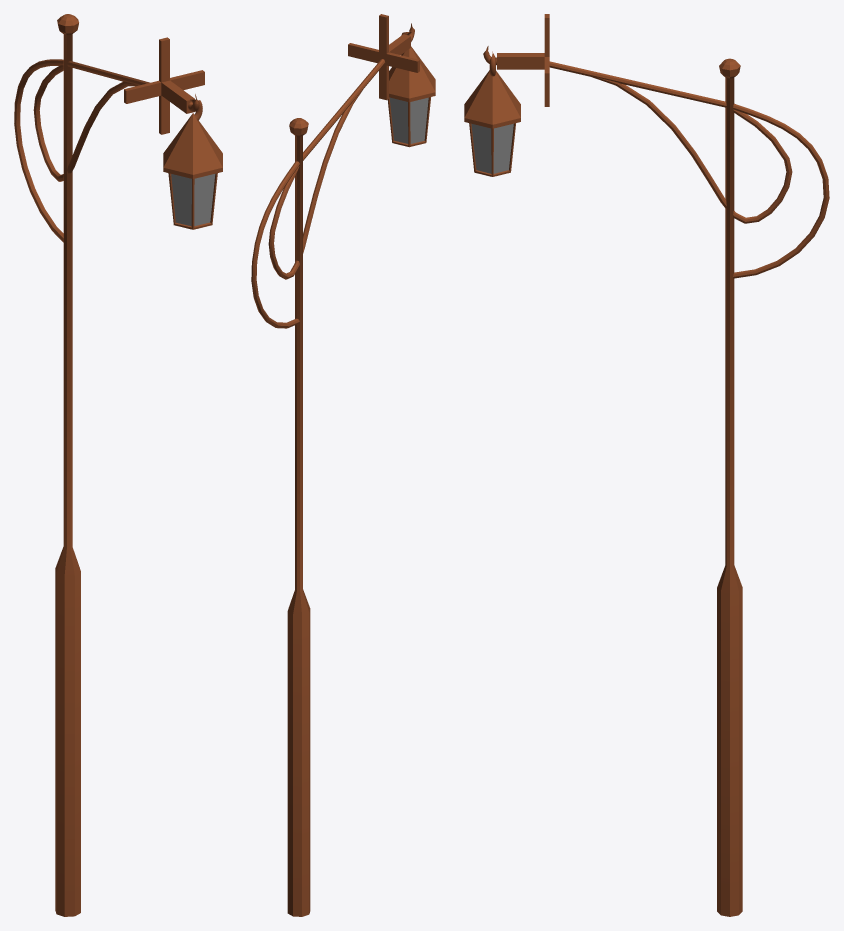
The model's file is ludeng1.FBX.
The picture shows the model from 3 angles, left to right: view 1: azimuth 30°, elevation 25°; view 2: azimuth 150°, elevation 25°; view 3: azimuth 270°, elevation 25°; orthographic projection. The views are drawn at different scales.
Parts seen in each view (by area): view 1: y523, Acc_Light006, 对象006; view 2: y523, Acc_Light006, 对象006; view 3: y523, Acc_Light006, 对象006.
Boxes of the visible parts, <box> form: y523: <box>14,14,149,916</box>; Acc_Light006: <box>124,37,222,229</box>; 对象006: <box>171,174,215,226</box>; y523: <box>251,59,384,916</box>; Acc_Light006: <box>348,14,435,147</box>; 对象006: <box>389,97,428,143</box>; y523: <box>549,58,829,916</box>; Acc_Light006: <box>464,14,549,176</box>; 对象006: <box>471,123,513,173</box>.
Bounding box in the file's own units: 0.7329 × 8.39 × 3.1.
